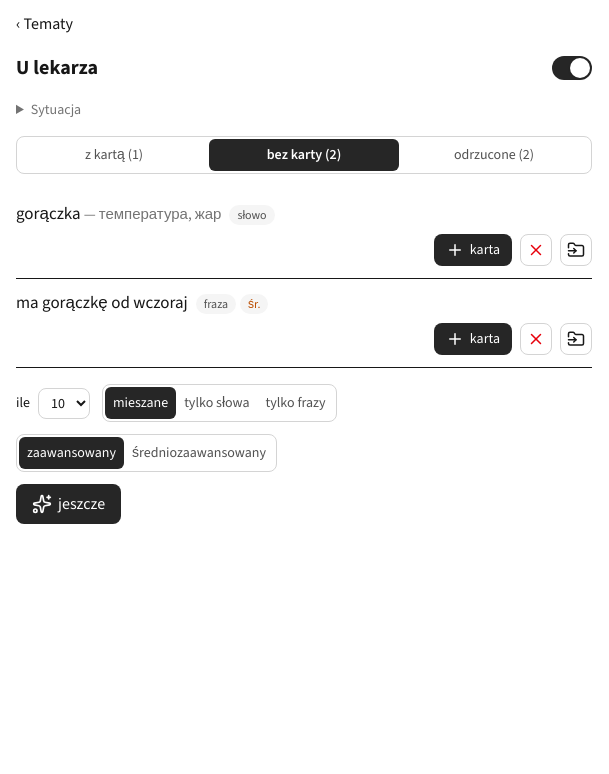
Test: TopicPage › reserves space below the cards so the + cannot cover the last row
Click the button "z kartą (1)" at coordinates (114, 155), box [19,139,209,171]
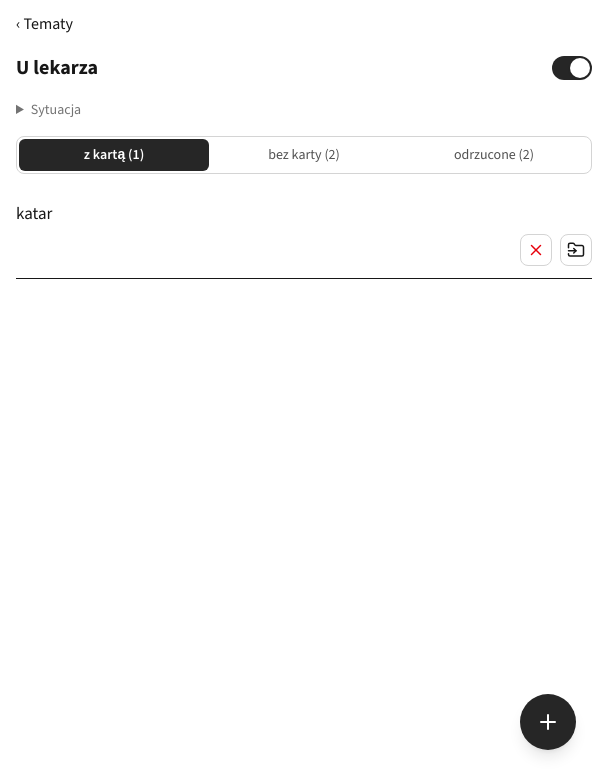
Check: the 3rd element named "dodaj słowo lub frazę" is shown, box [520,694,576,750]
